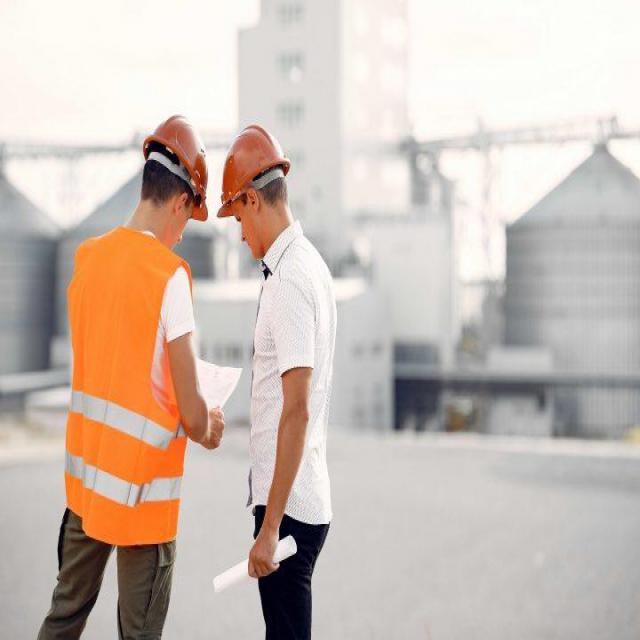Reflective-Jacket: (56, 225, 195, 552)
Safety-Helmet: (140, 104, 212, 219), (216, 113, 293, 220)
